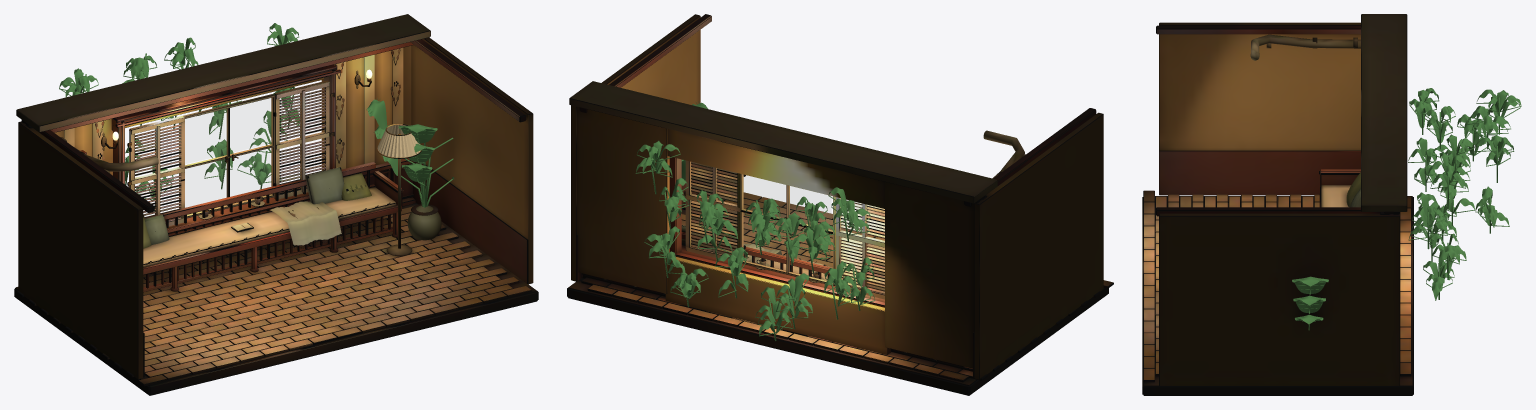
Rendered from interior-room.glb.
3 views of the same model, side by side, from view 1: azimuth 30°, elevation 25°; view 2: azimuth 150°, elevation 25°; view 3: azimuth 270°, elevation 25° (orthographic). The views are drawn at different scales.
Visible parts, largest first — view 1: Interior_Baked_Static, InteriorGarden, InteriorPlant, InteriorFloorLampShade; view 2: Interior_Baked_Static, InteriorGarden; view 3: Interior_Baked_Static, InteriorGarden, InteriorPlant.
Part boxes in pixels (<box>): Interior_Baked_Static: <box>14,14,538,395</box>; InteriorGarden: <box>59,23,299,211</box>; InteriorPlant: <box>366,98,454,207</box>; InteriorFloorLampShade: <box>377,124,420,157</box>; Interior_Baked_Static: <box>567,14,1113,395</box>; InteriorGarden: <box>635,140,875,340</box>; Interior_Baked_Static: <box>1142,14,1413,395</box>; InteriorGarden: <box>1408,88,1521,300</box>; InteriorPlant: <box>1292,276,1328,330</box>.
Size of the model in its own units: 10.73 by 4.59 by 8.23.
11 materials, 1 textured.
